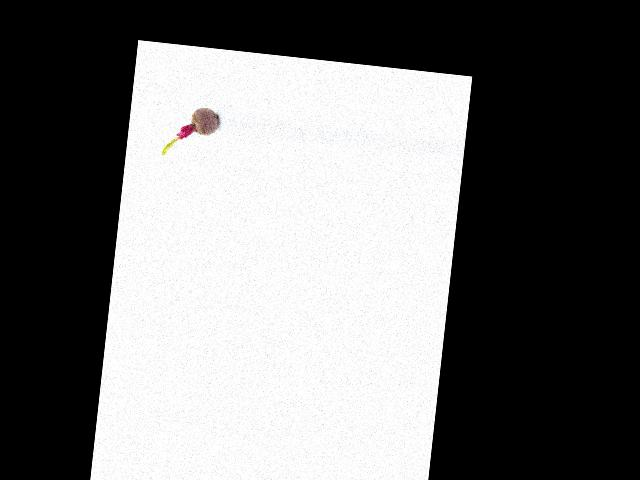beet: (162, 103, 220, 160)
